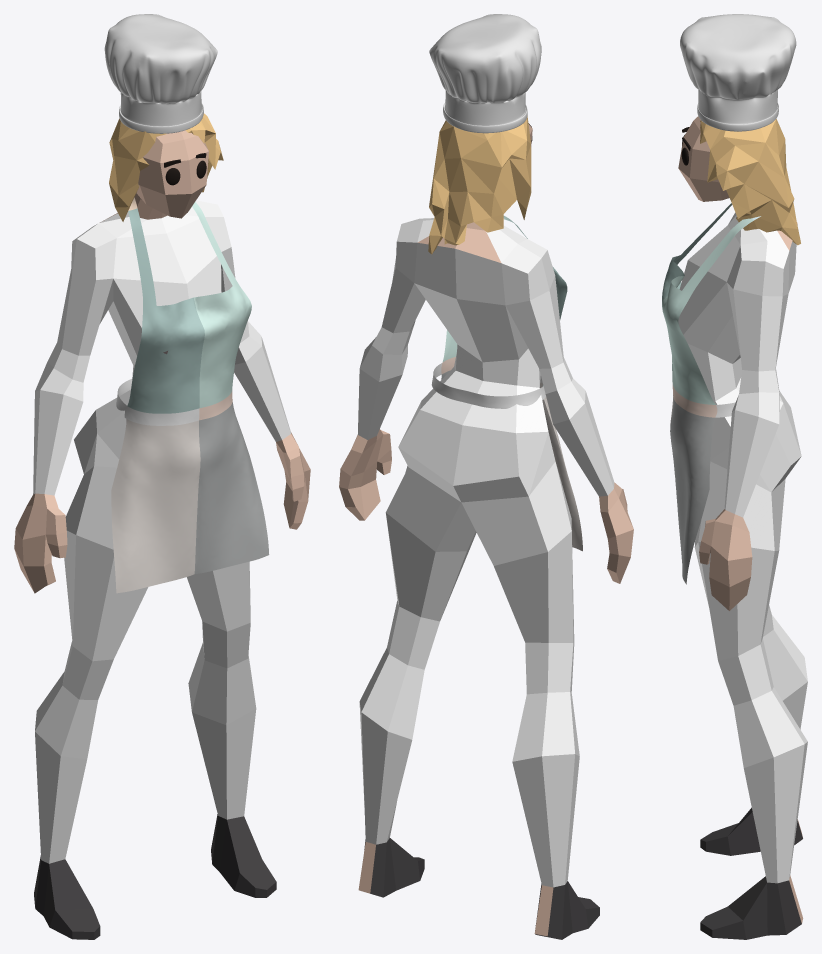
File: chef.fbx
3 renders of one model, left to right at view 1: azimuth 30°, elevation 25°; view 2: azimuth 150°, elevation 25°; view 3: azimuth 270°, elevation 25°, orthographic.
Parts seen in each view (by area): view 1: Cube, Pattern2D_149184, Hat, Pattern2D_148596, Pattern2D_149184.001, Pattern2D_148597, Sphere.003, Pattern2D_149184.002; view 2: Cube, Hat, Sphere.003, Pattern2D_149184, Pattern2D_151004.001; view 3: Cube, Hat, Sphere.003, Pattern2D_148596, Pattern2D_148597, Pattern2D_149184.001, Pattern2D_148598.
Boxes of the visible parts, x1=… form: Cube: x1=14, y1=130, x2=310, y2=939; Pattern2D_149184: x1=111, y1=419, x2=200, y2=593; Hat: x1=104, y1=14, x2=217, y2=133; Pattern2D_148596: x1=194, y1=402, x2=269, y2=573; Pattern2D_149184.001: x1=127, y1=208, x2=204, y2=413; Pattern2D_148597: x1=192, y1=202, x2=251, y2=407; Sphere.003: x1=109, y1=113, x2=223, y2=221; Pattern2D_149184.002: x1=126, y1=406, x2=199, y2=425; Cube: x1=339, y1=124, x2=633, y2=939; Hat: x1=429, y1=14, x2=541, y2=133; Sphere.003: x1=428, y1=116, x2=531, y2=254; Pattern2D_149184: x1=539, y1=382, x2=582, y2=551; Pattern2D_151004.001: x1=467, y1=387, x2=543, y2=408; Cube: x1=678, y1=116, x2=807, y2=939; Hat: x1=680, y1=14, x2=796, y2=131; Sphere.003: x1=700, y1=119, x2=800, y2=245; Pattern2D_148596: x1=670, y1=395, x2=714, y2=584; Pattern2D_148597: x1=662, y1=218, x2=753, y2=404; Pattern2D_149184.001: x1=662, y1=203, x2=732, y2=370; Pattern2D_148598: x1=672, y1=384, x2=717, y2=417.
Size of the model in its own units: 64.18 by 186 by 28.64.
